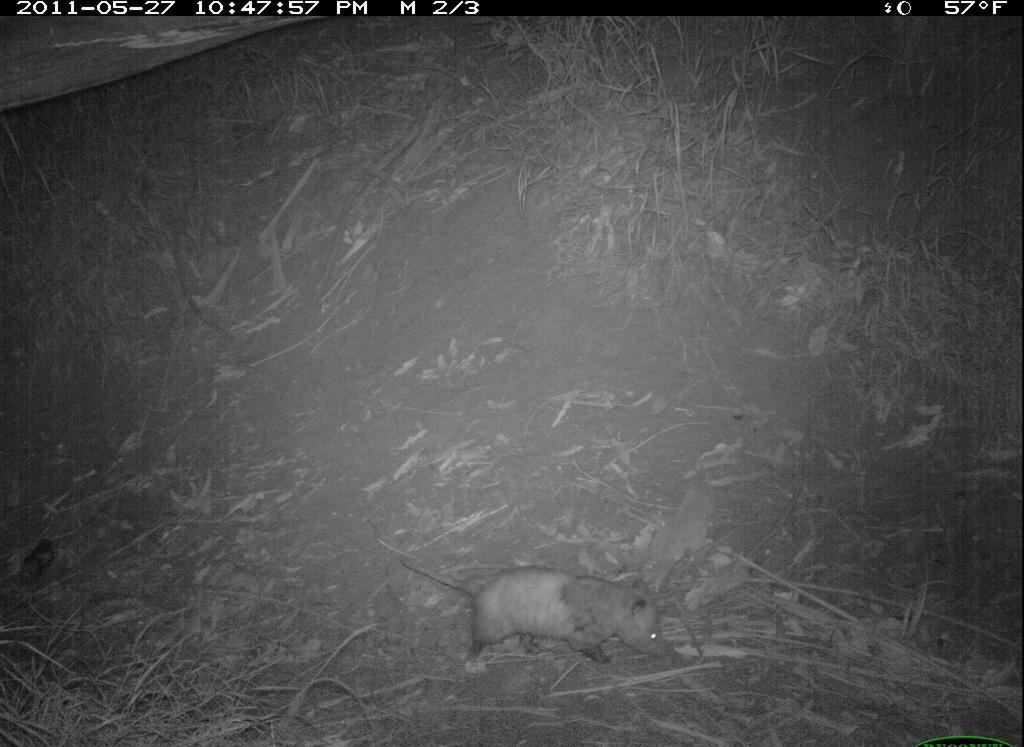opossum: (382, 537, 687, 687)
